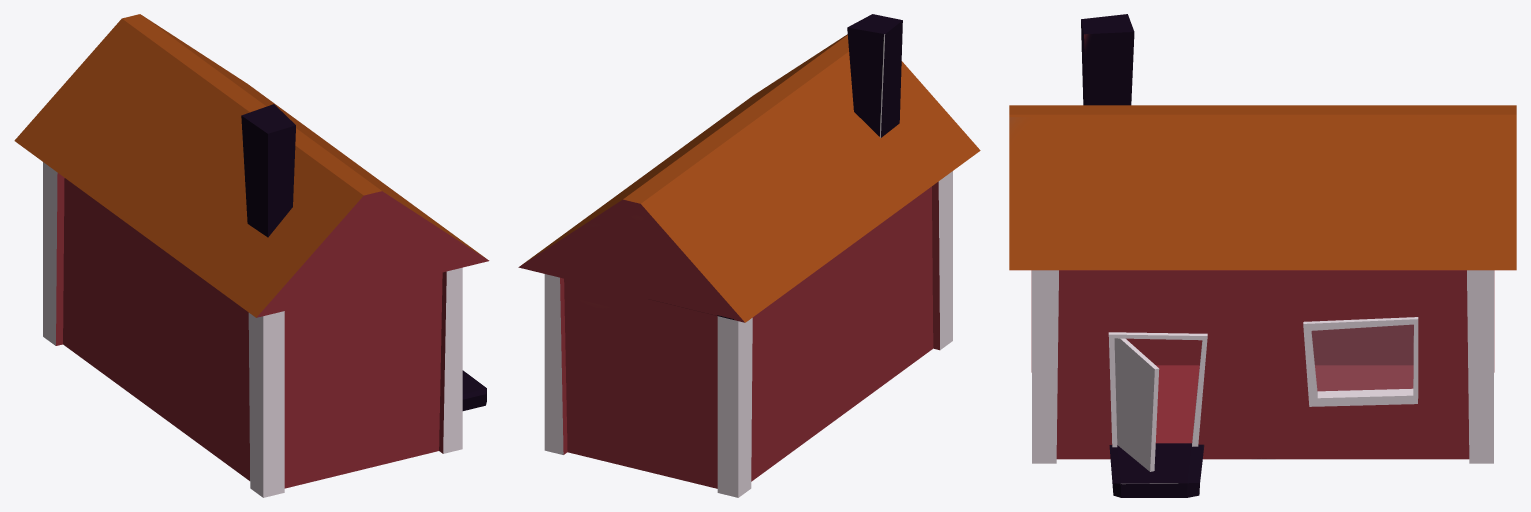
File: House.fbx
The picture shows the model from 3 angles, left to right: view 1: azimuth 30°, elevation 25°; view 2: azimuth 150°, elevation 25°; view 3: azimuth 270°, elevation 25°; orthographic projection. The views are drawn at different scales.
Parts seen in each view (by area): view 1: House; view 2: House; view 3: House.
Boxes of the visible parts, x1,y1,x2,y2 form: House: (14, 14, 489, 497); House: (518, 14, 980, 497); House: (1009, 14, 1516, 497).
Bounding box in the file's own units: 309 × 357 × 456.
